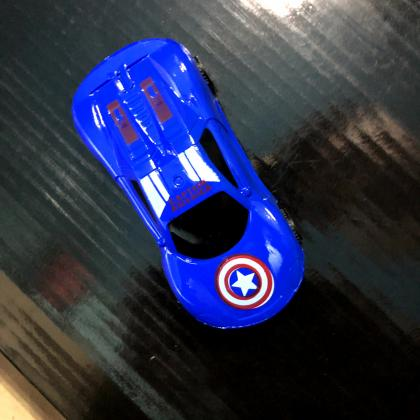Car: (70, 38, 305, 332)
